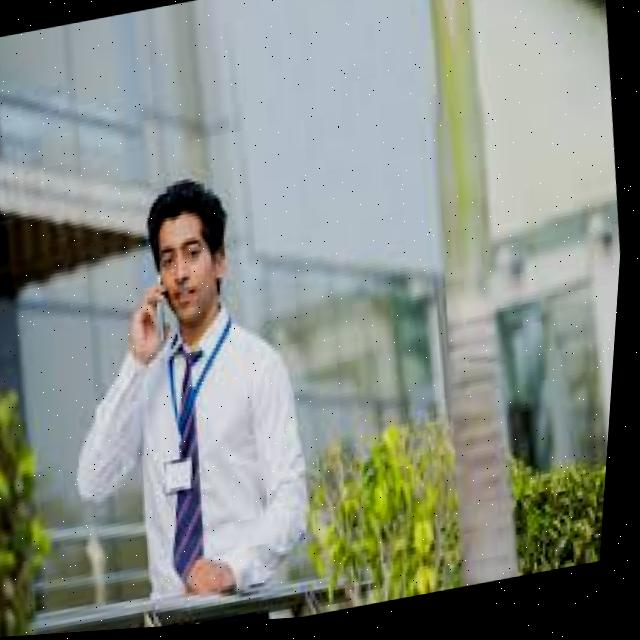id_card: (147, 332, 245, 506)
